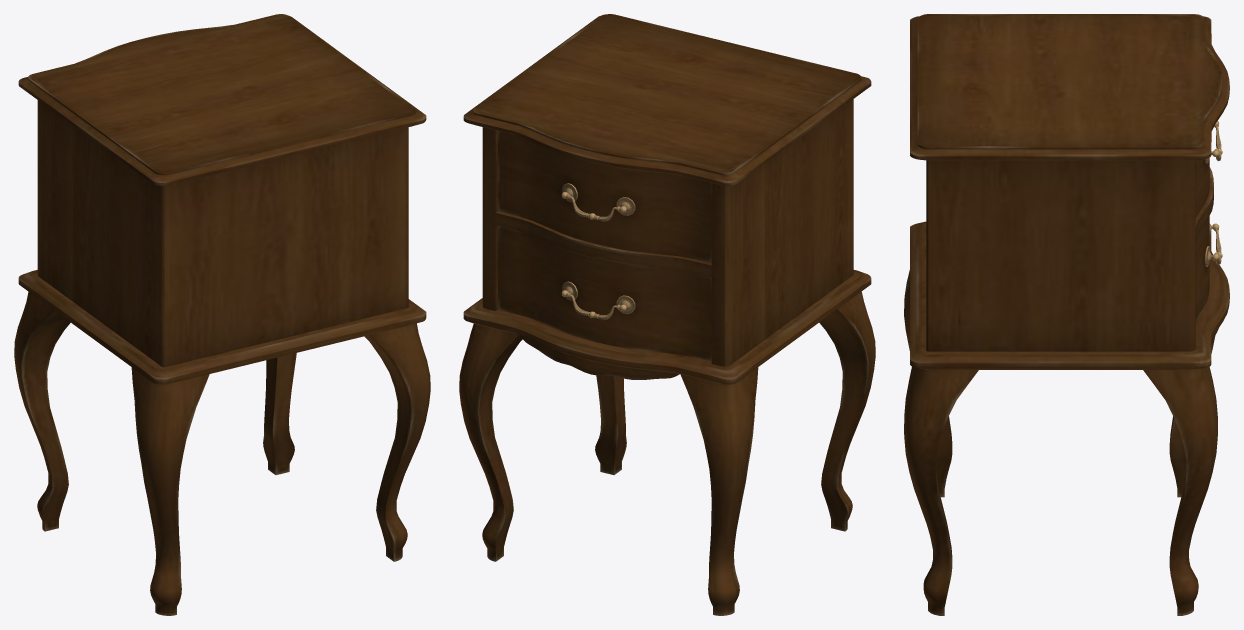
The model's file is chest-bedside.glb.
3 renders of one model, left to right at view 1: azimuth 30°, elevation 25°; view 2: azimuth 150°, elevation 25°; view 3: azimuth 270°, elevation 25°, orthographic. The views are drawn at different scales.
Parts seen in each view (by area): view 1: chest-bedside; view 2: chest-bedside; view 3: chest-bedside.
Part boxes in pixels (x1,y1,x2,y2): chest-bedside: (14,14,430,615); chest-bedside: (459,14,875,615); chest-bedside: (904,14,1229,615).
Size of the model in its own units: 0.4447 by 0.6709 by 0.4195.
Materials: 1 (1 with a texture image).
